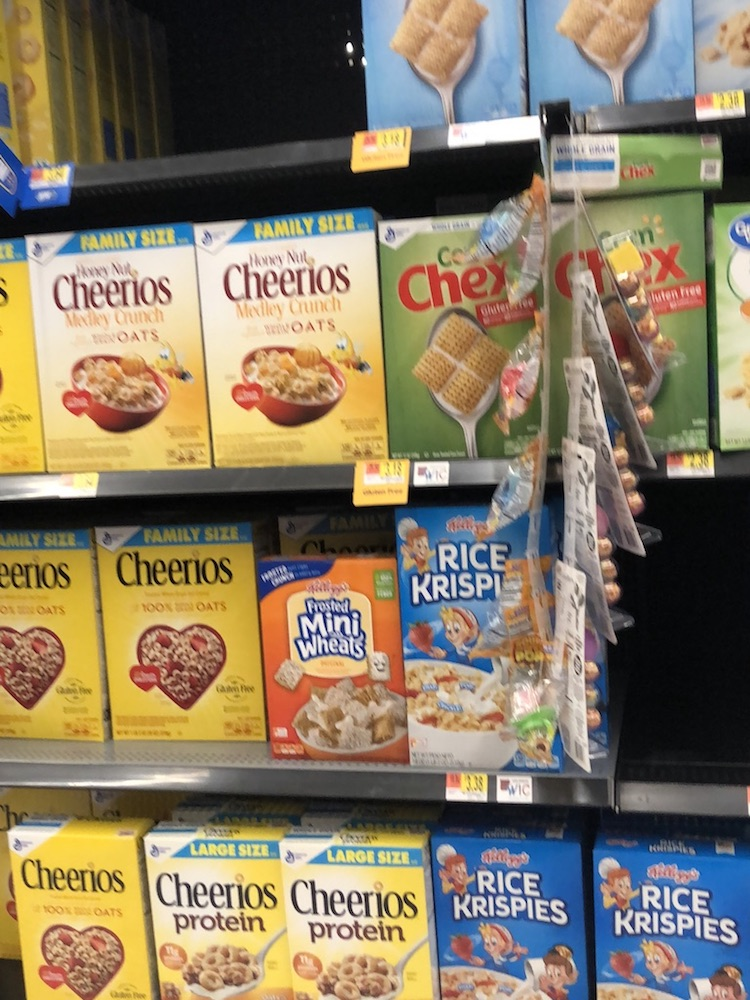Frosted Mini Original -9295869: (257, 555, 415, 772)
